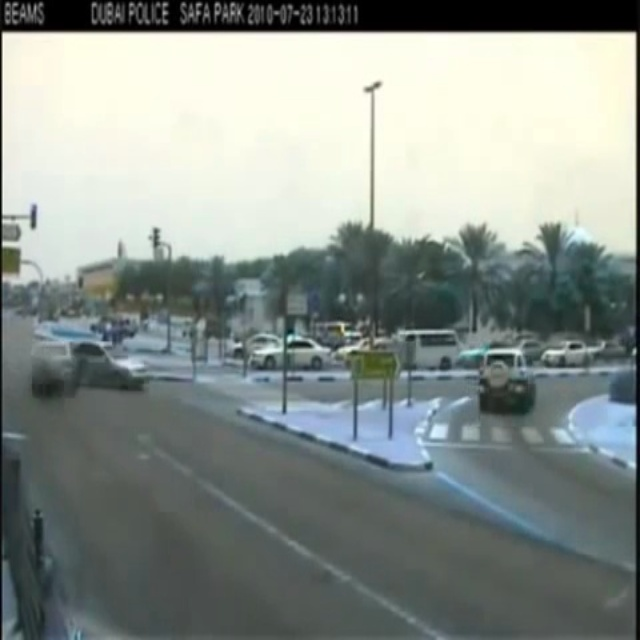acc: (24, 330, 147, 407)
